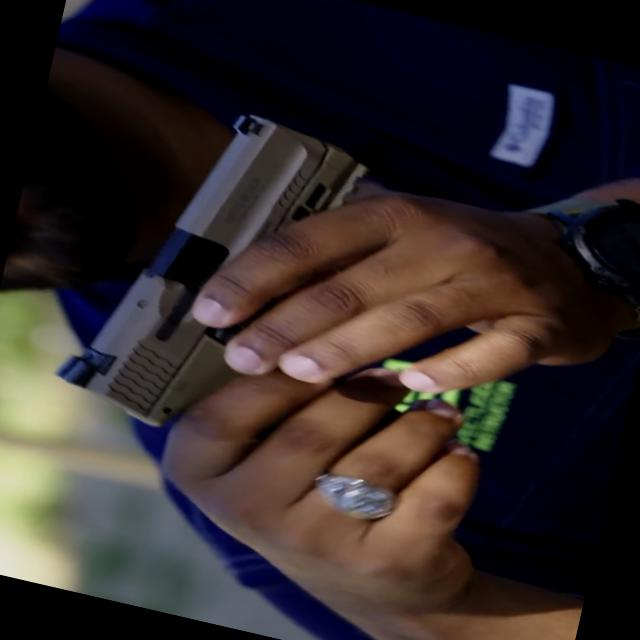handgun: (19, 86, 560, 512)
